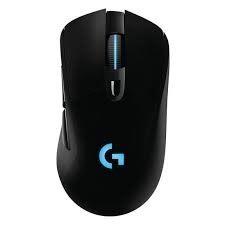mouse: (49, 7, 173, 221)
